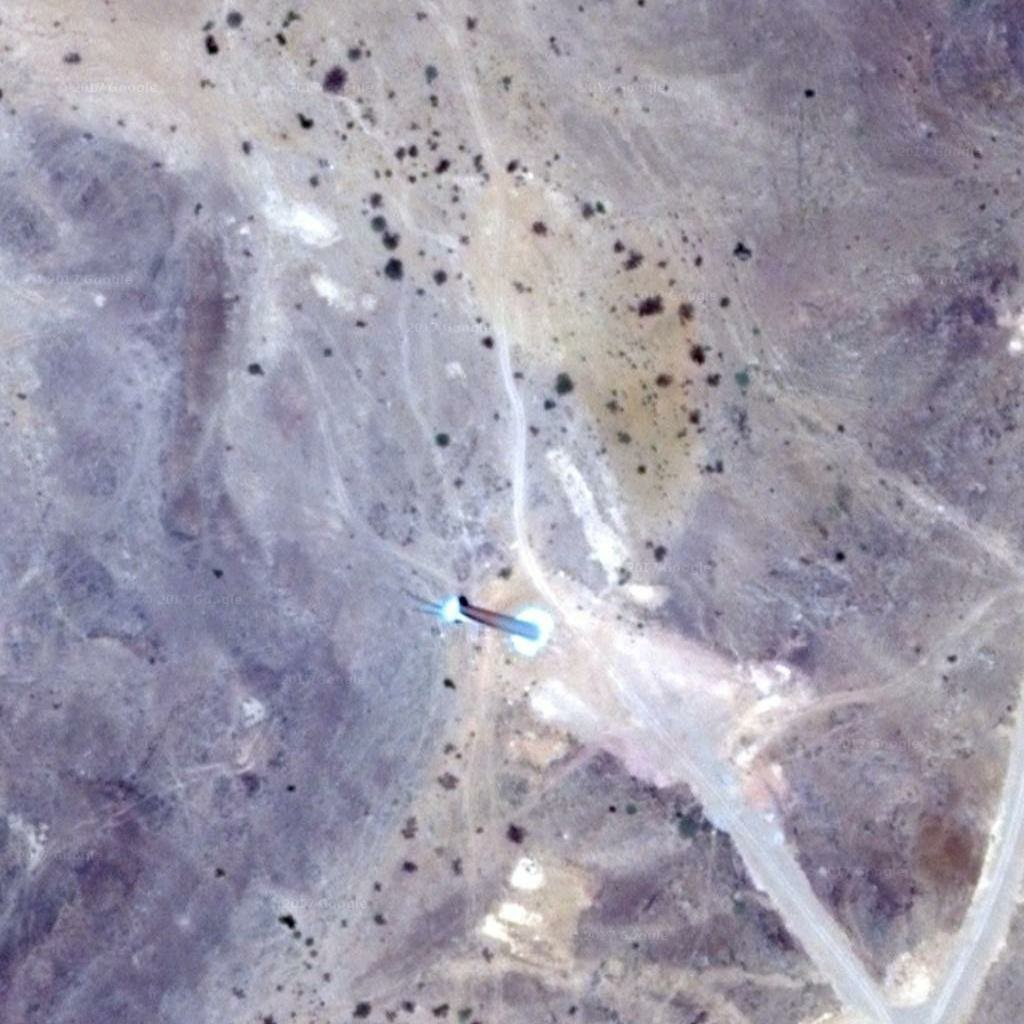Windmill: (394, 578, 568, 661)
